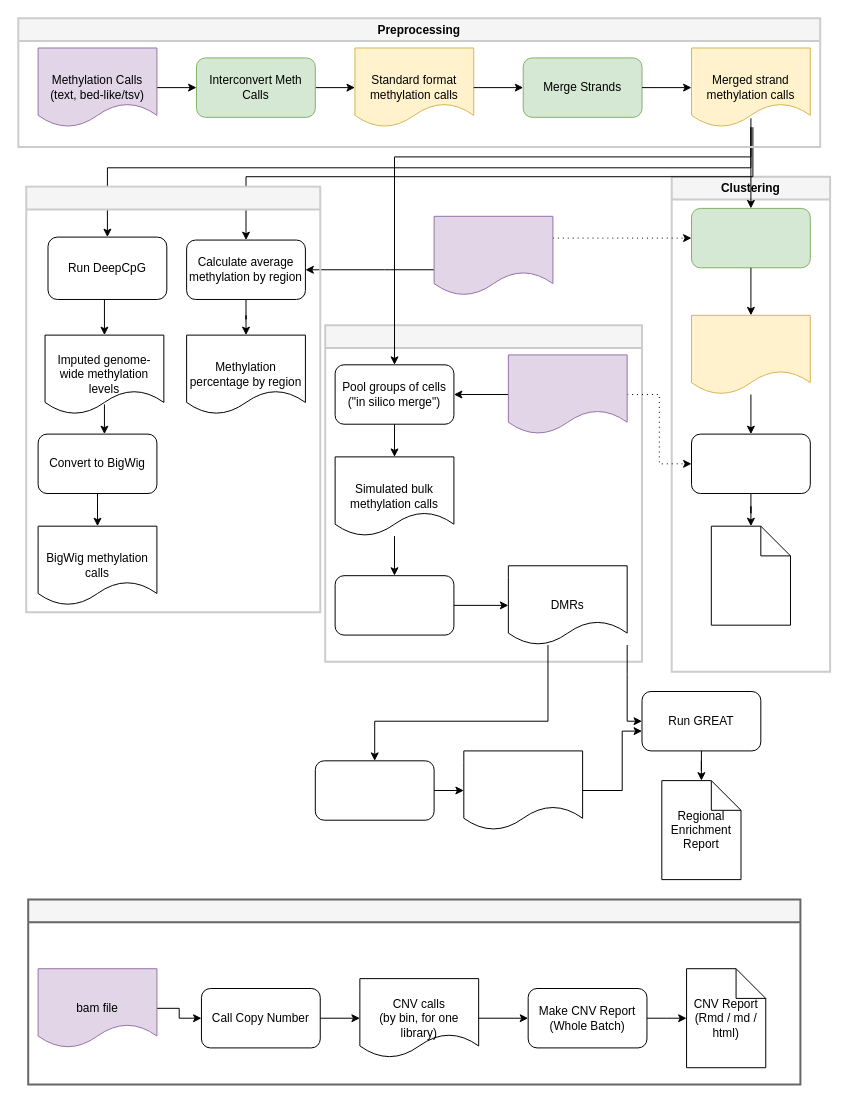
The diagram is 847 pixels wide and 1102 high, and some of its shapes have lost their labels. Each missing label, with the box of its shape:
Call DMRs statistically: (334, 575, 454, 635)
Cluster report: (710, 525, 791, 625)
Copy Number: (27, 898, 801, 1085)
Differential Methylation: (324, 324, 643, 662)
Distance matrix: (691, 314, 810, 395)
Genomic Regions of Interest: (433, 215, 553, 296)
Known per-cell labels (e.g. cell type): (507, 354, 627, 434)
Make Cluster Report: (691, 433, 810, 494)
Pairwise Cluster Cells: (691, 207, 810, 268)
Run LOLA: (314, 760, 434, 820)
TF-specific regions: (463, 750, 583, 830)
Visualization: (25, 185, 321, 613)
